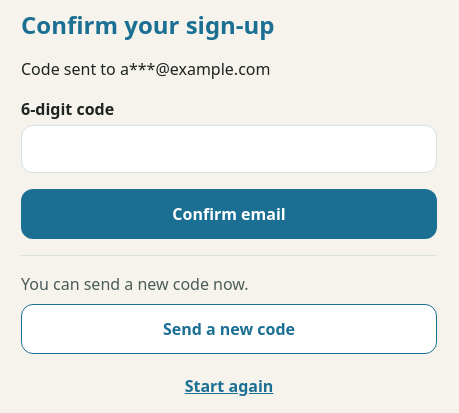
Test: the email step › with Termii live: sends the code and moves to the phone step with only the last four digits shown
The width and height of the screenshot is (459, 413).
In the field labelled "6-digit code": (229, 149) [21,125,437,173], type "482913"
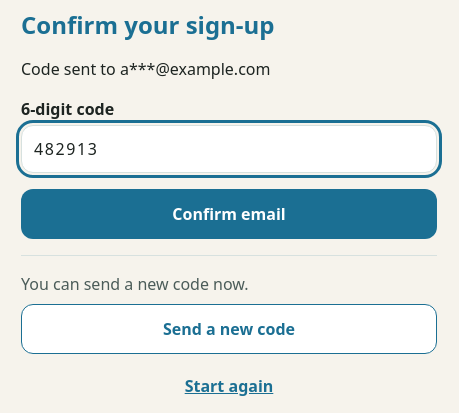
Click the button "Confirm email": (229, 214) [21,189,437,239]
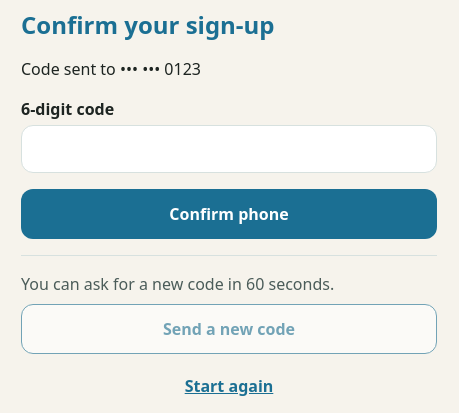
expect the text "Code sent to ••• ••• 0123" is shown: met, box [21,58,201,80]
expect the button "Confirm phone" is shown: met, box [21,189,437,239]
expect the field labelled "6-digit code" is empty: met, box [21,125,437,173]
